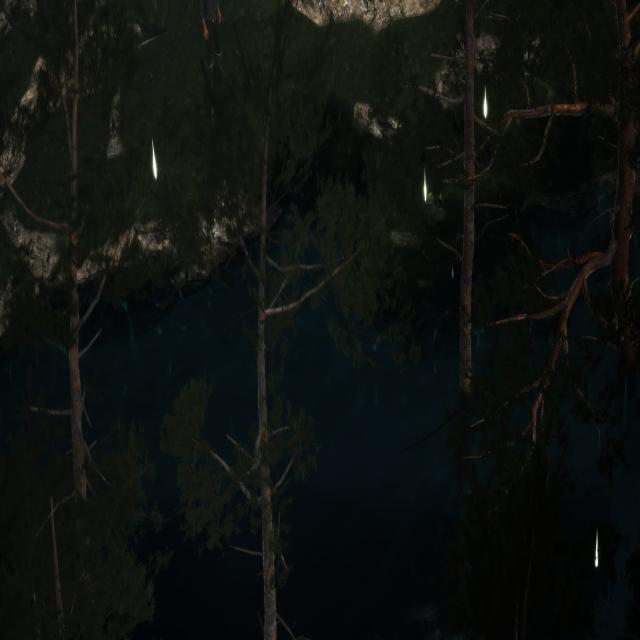Human: (194, 0, 226, 91)
